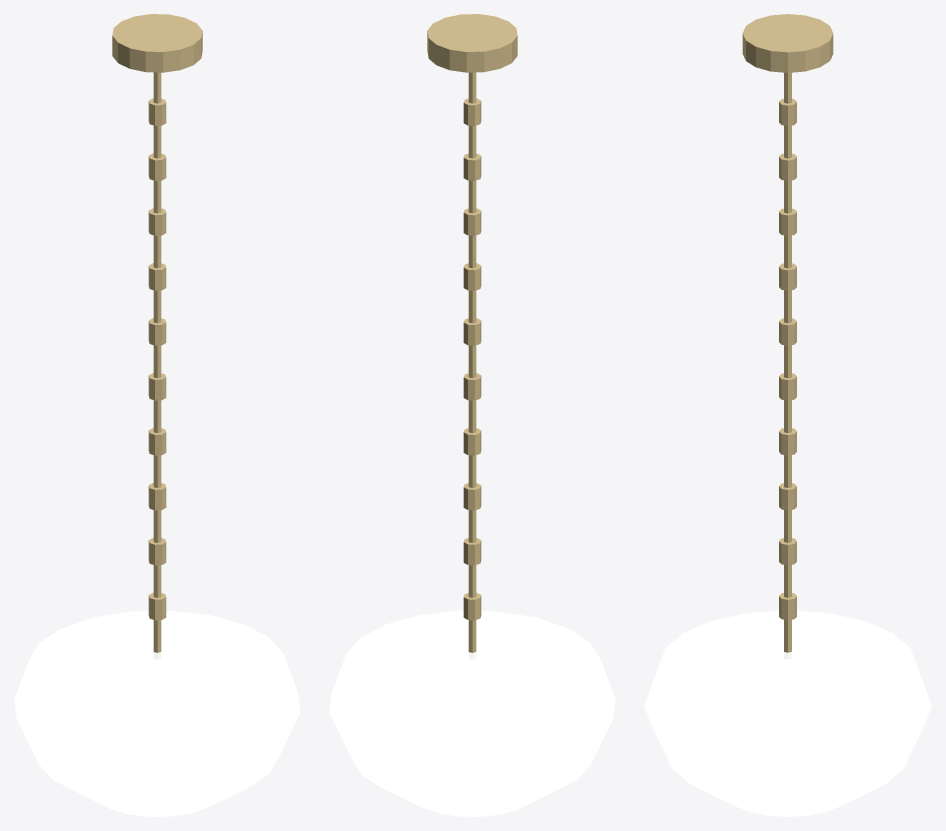
The model's file is X14_ARCH_Pendant_Lamp.glb.
The picture shows the model from 3 angles, left to right: view 1: azimuth 30°, elevation 25°; view 2: azimuth 150°, elevation 25°; view 3: azimuth 270°, elevation 25°; orthographic projection.
Visible parts, largest first — view 1: X14_ARCH_Pendant_Lamp_Glass_LOD0, X14_ARCH_Pendant_Lamp_LOD0; view 2: X14_ARCH_Pendant_Lamp_Glass_LOD0, X14_ARCH_Pendant_Lamp_LOD0; view 3: X14_ARCH_Pendant_Lamp_Glass_LOD0, X14_ARCH_Pendant_Lamp_LOD0.
Boxes of the visible parts, <box> form: X14_ARCH_Pendant_Lamp_Glass_LOD0: <box>14,610,300,816</box>; X14_ARCH_Pendant_Lamp_LOD0: <box>112,14,202,652</box>; X14_ARCH_Pendant_Lamp_Glass_LOD0: <box>329,610,615,816</box>; X14_ARCH_Pendant_Lamp_LOD0: <box>427,14,517,652</box>; X14_ARCH_Pendant_Lamp_Glass_LOD0: <box>644,611,931,816</box>; X14_ARCH_Pendant_Lamp_LOD0: <box>742,14,833,652</box>.
Size of what is drawn, in the model's own units: 0.38 by 1.1 by 0.38.
